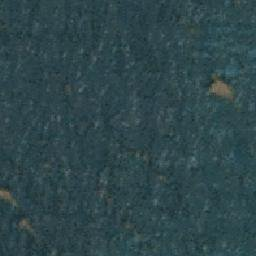debris: (206, 72, 231, 100), (1, 188, 18, 209), (15, 219, 34, 235)
